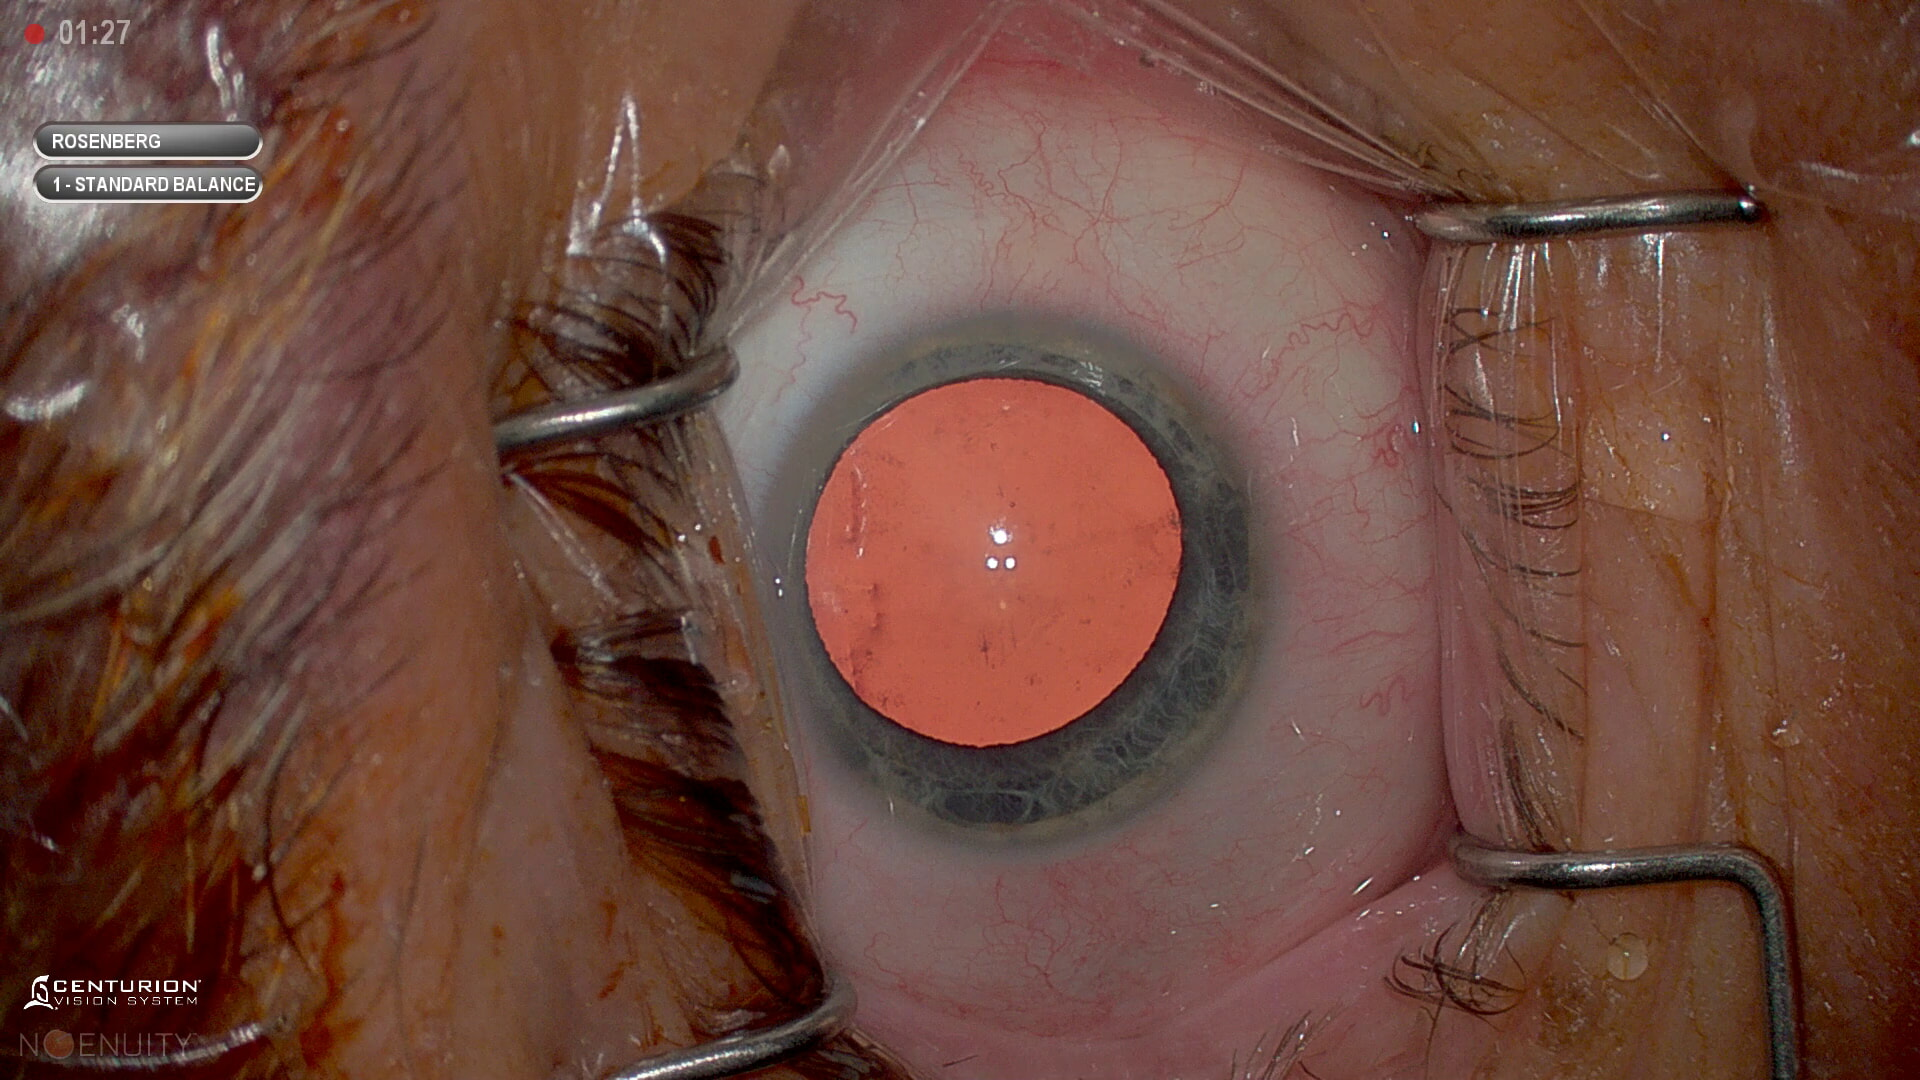iris: (764, 316, 1266, 814)
pupil: (805, 373, 1184, 751)
